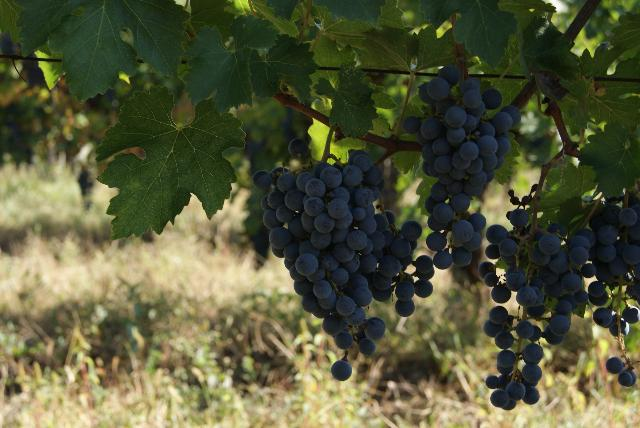grapes: (252, 151, 432, 355), (401, 65, 520, 269), (479, 224, 575, 410), (570, 191, 640, 358), (579, 192, 640, 302)
